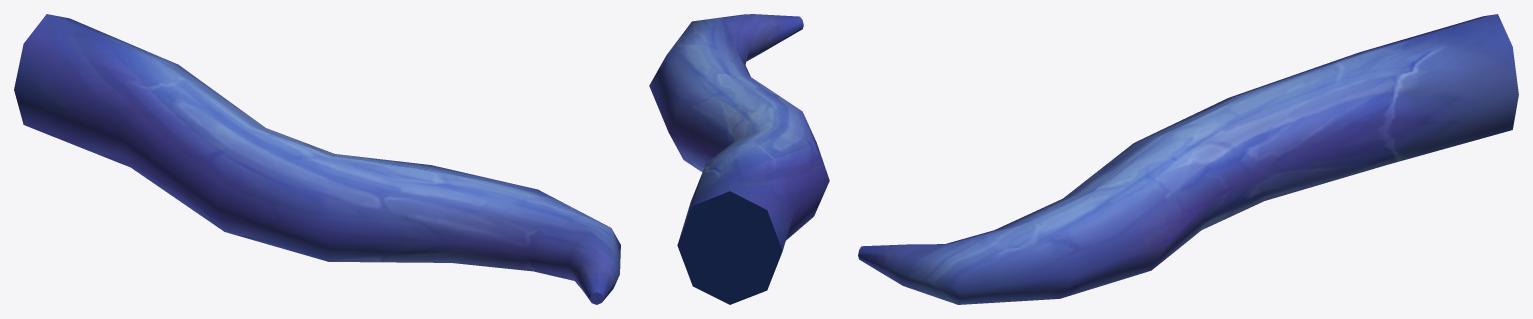
The model's file is Avatar_tree_03.fbx.
3 views of the same model, side by side, from view 1: azimuth 30°, elevation 25°; view 2: azimuth 150°, elevation 25°; view 3: azimuth 270°, elevation 25° (orthographic). The views are drawn at different scales.
Parts seen in each view (by area): view 1: Avatar_tree_03; view 2: Avatar_tree_03; view 3: Avatar_tree_03.
Boxes of the visible parts, <box> form: Avatar_tree_03: <box>14,14,620,304</box>; Avatar_tree_03: <box>649,14,829,304</box>; Avatar_tree_03: <box>858,14,1518,304</box>.
Size of the model in its own units: 159 by 66.84 by 249.
